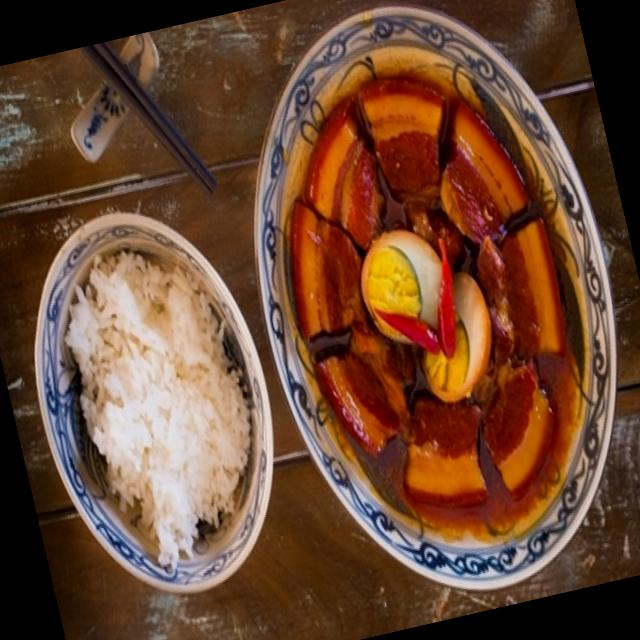com: (67, 252, 251, 562)
kho trung: (290, 79, 569, 505)
